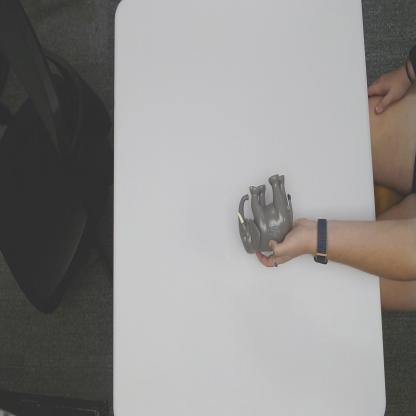Arm: (328, 217, 379, 276)
Elephant: (236, 172, 296, 255)
Hand: (255, 216, 310, 269)
